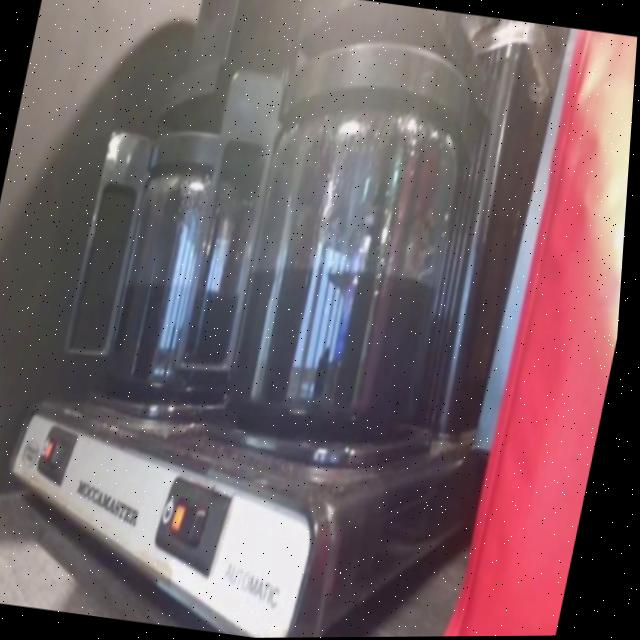coffee: (213, 40, 509, 461), (94, 112, 281, 414)
